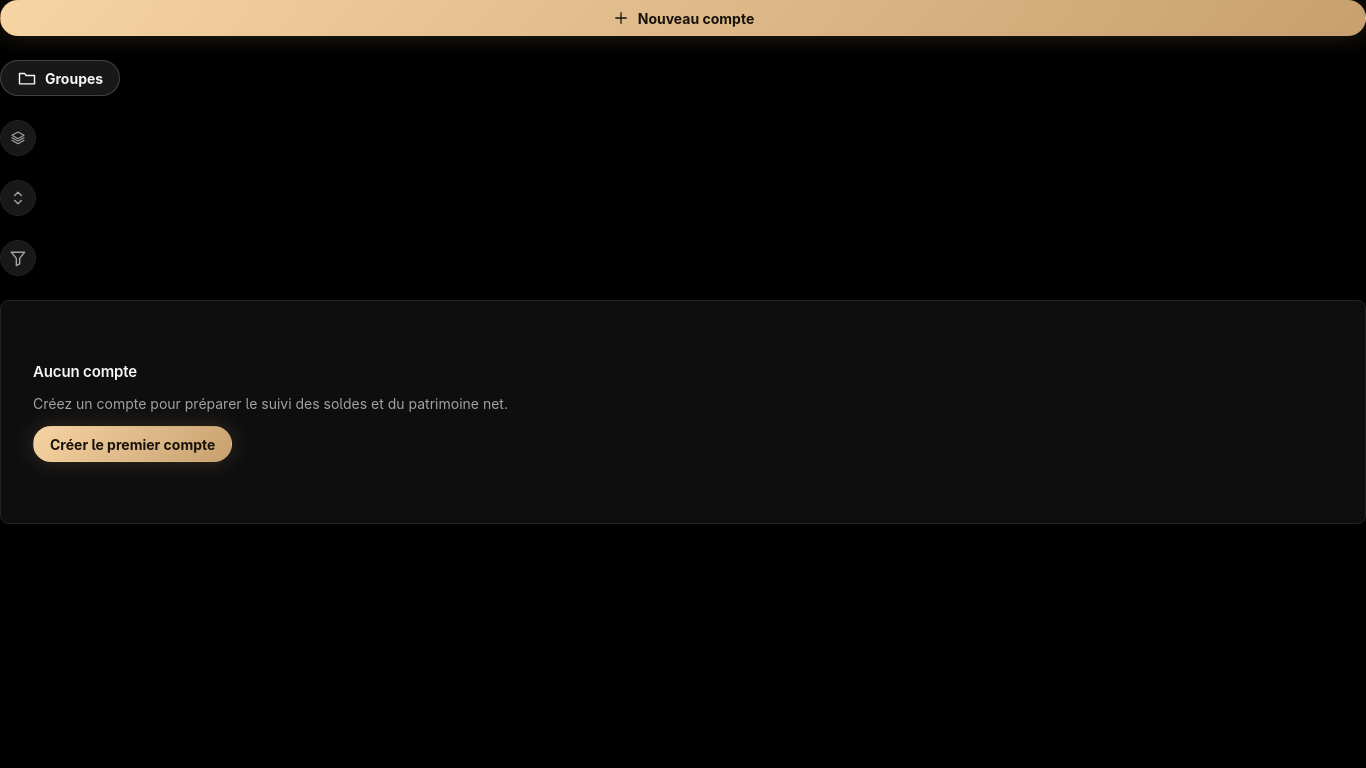
Test: AccountsPage › lets an unreadable catalogue fall back to an account described by hand
Click the button "Créer le premier compte" at (133, 444), box [33, 426, 232, 462]
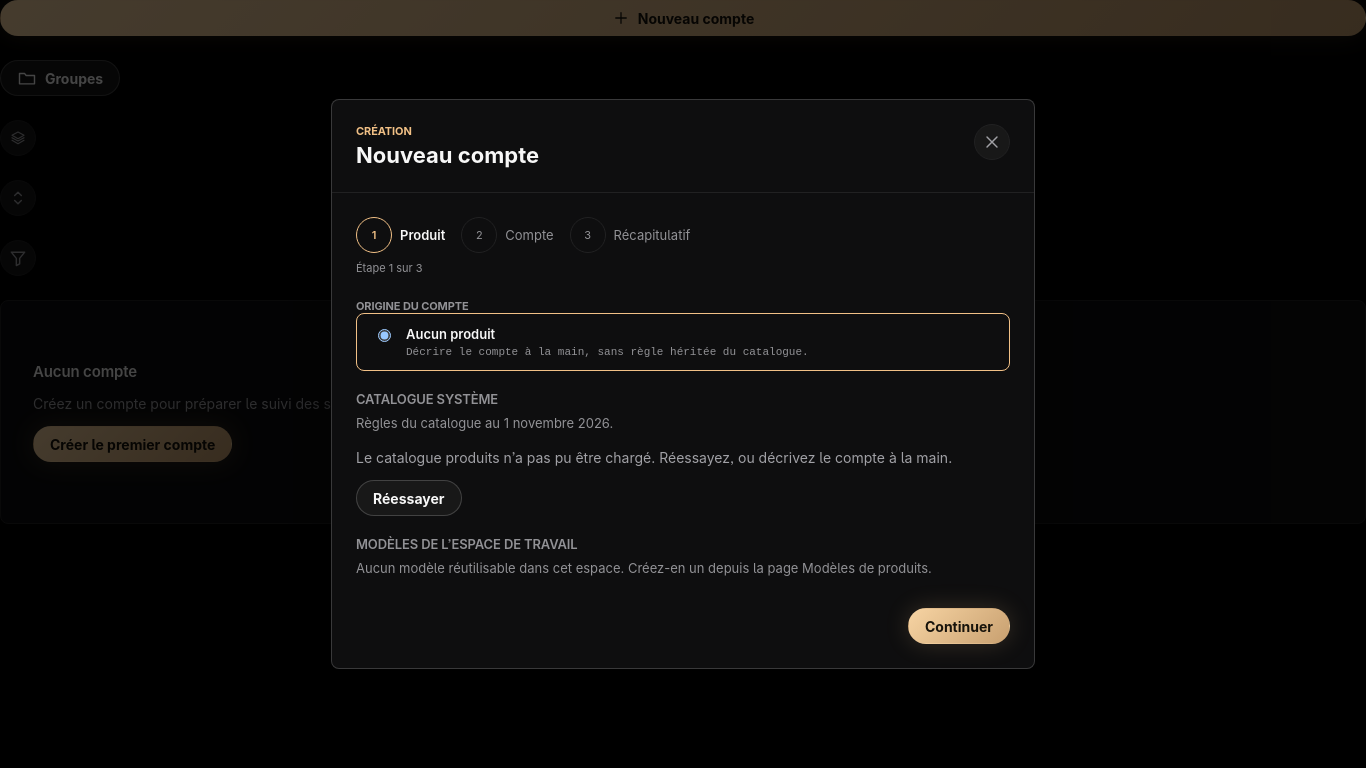
Expected: the text "Le catalogue produits n’a pas pu être chargé. Réessayez, ou décrivez le compte à la main." is shown, [356, 449, 952, 466]
Click the button "Continuer" at (959, 626), box [908, 608, 1010, 644]
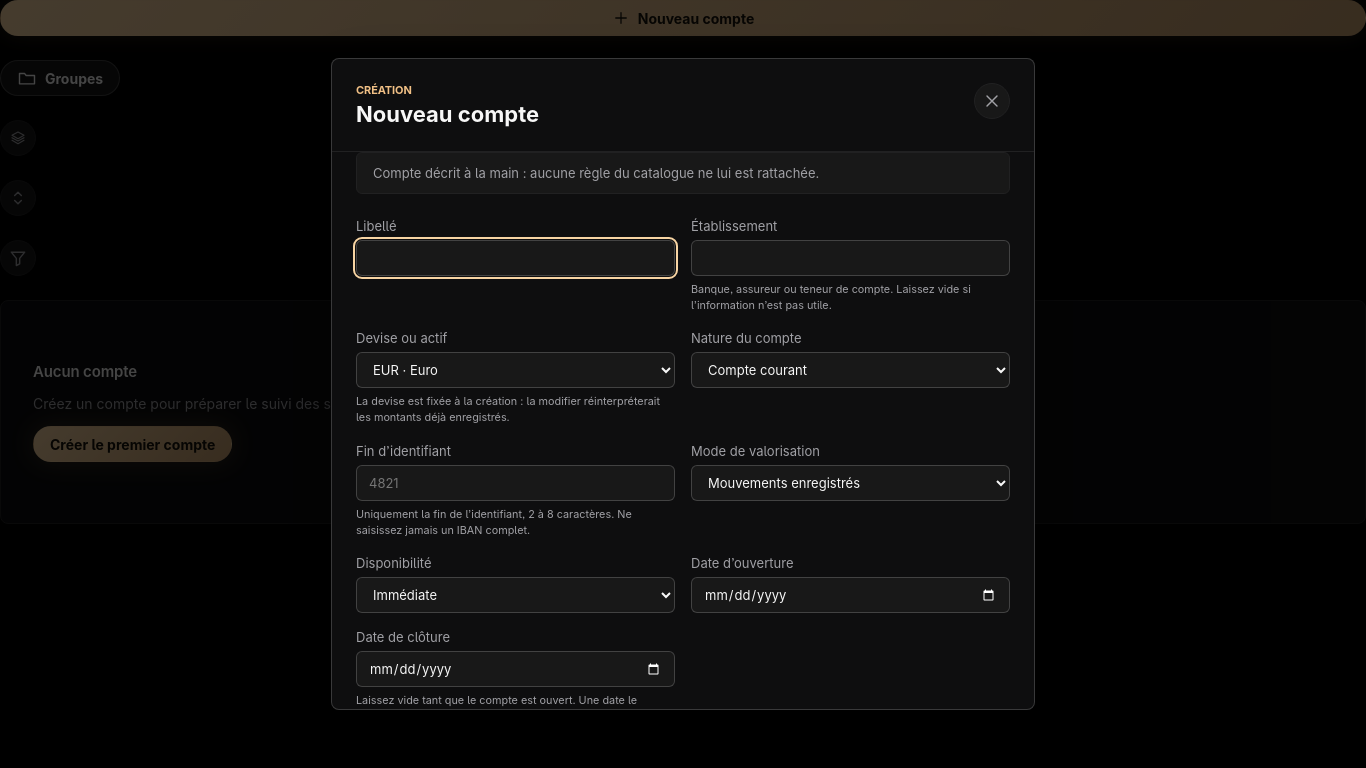
Expected: the field labelled "Libellé" is shown, [356, 240, 675, 276]
